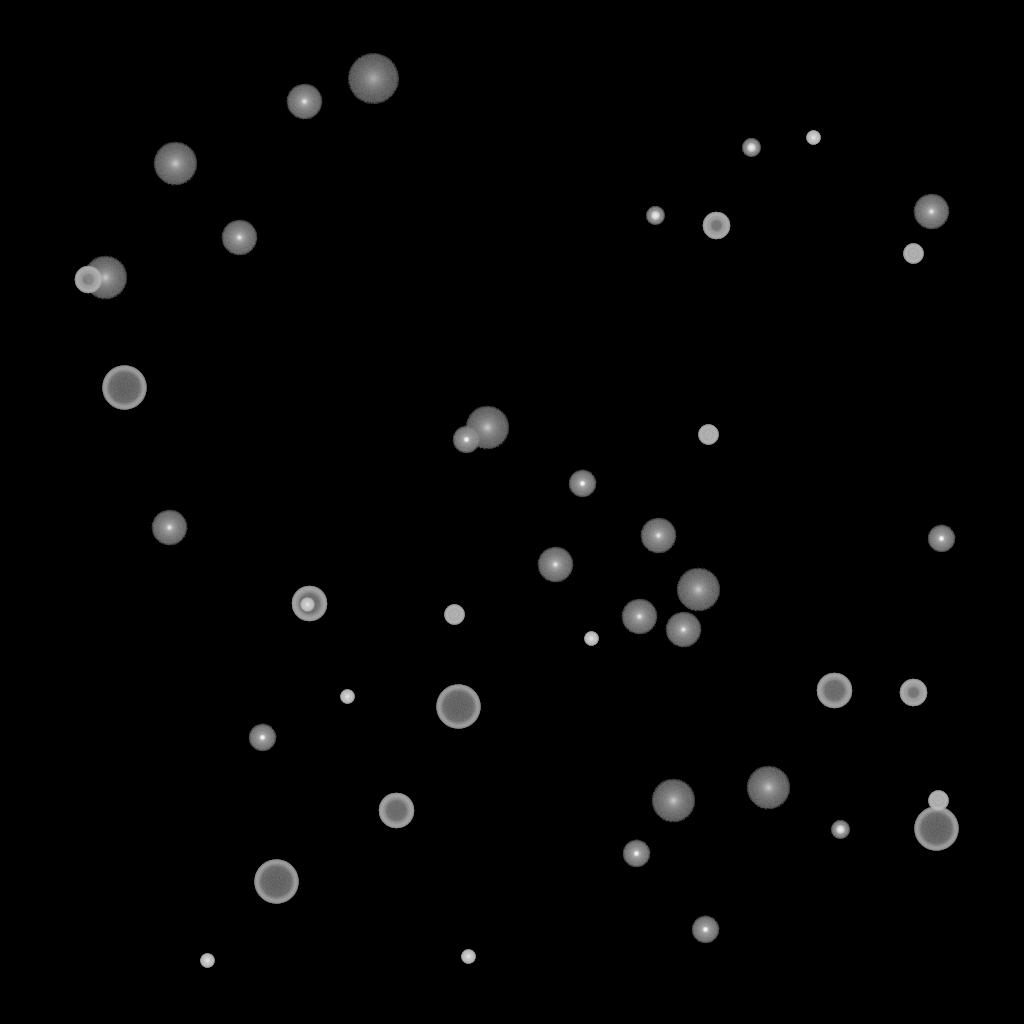depth:-10: (568, 470, 596, 498), (691, 916, 719, 944), (452, 426, 480, 454), (927, 525, 955, 553), (622, 840, 650, 868), (248, 724, 276, 752)
depth:-20: (831, 821, 849, 839), (742, 139, 760, 157), (646, 207, 664, 225)
depth:-30: (200, 954, 214, 968), (584, 632, 598, 646), (806, 131, 820, 145), (300, 598, 314, 612), (340, 690, 354, 704), (461, 950, 475, 964)
depth:-40: (444, 605, 464, 625), (903, 244, 923, 264), (698, 425, 718, 445), (928, 791, 948, 811)
depth:-50: (74, 266, 102, 294), (702, 212, 730, 240), (899, 679, 927, 707)
depth:-60: (291, 586, 327, 622), (378, 793, 414, 829), (816, 673, 852, 709)
depth:-70: (102, 366, 146, 410), (254, 860, 298, 904), (914, 807, 958, 851), (436, 685, 480, 729)
depth:0: (621, 599, 657, 635), (640, 518, 676, 554), (537, 547, 573, 583), (151, 510, 187, 546), (286, 84, 322, 120), (221, 220, 257, 256), (665, 612, 701, 648), (913, 194, 949, 230)
depth:10: (153, 142, 197, 186), (651, 779, 695, 823), (746, 766, 790, 810), (676, 568, 720, 612), (83, 256, 127, 300), (465, 406, 509, 450)
depth:20: (347, 54, 399, 104)
